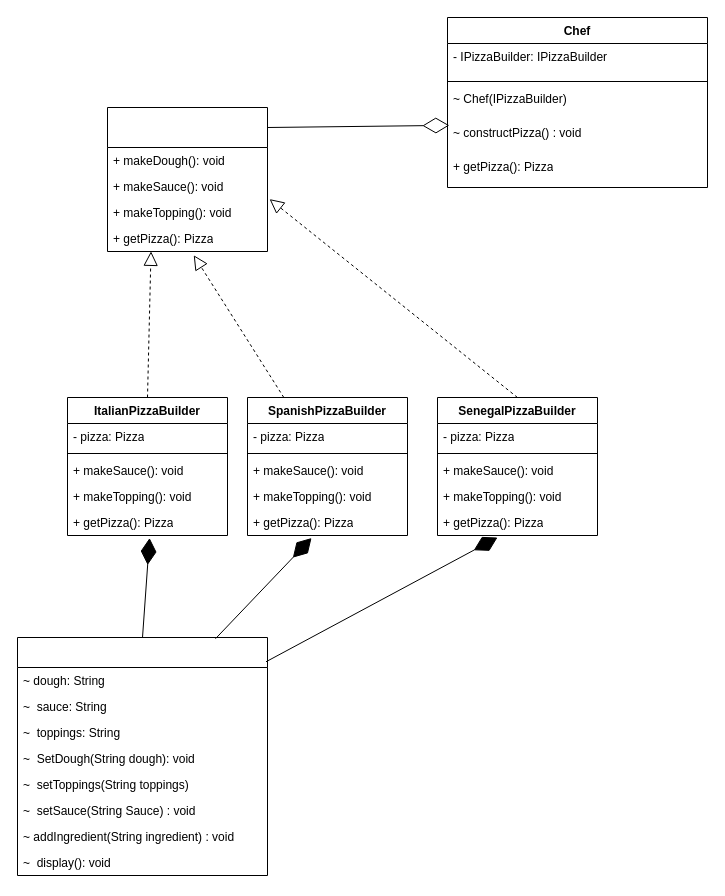
The diagram is 725 pixels wide and 896 high, and some of its shapes have lost their labels. The box of each missing label's shape, as (x1, y1, x2, y2) in pixels:
<<interface>> PizzaBuilder: (106, 106, 268, 252)
Pizza: (16, 636, 268, 876)
